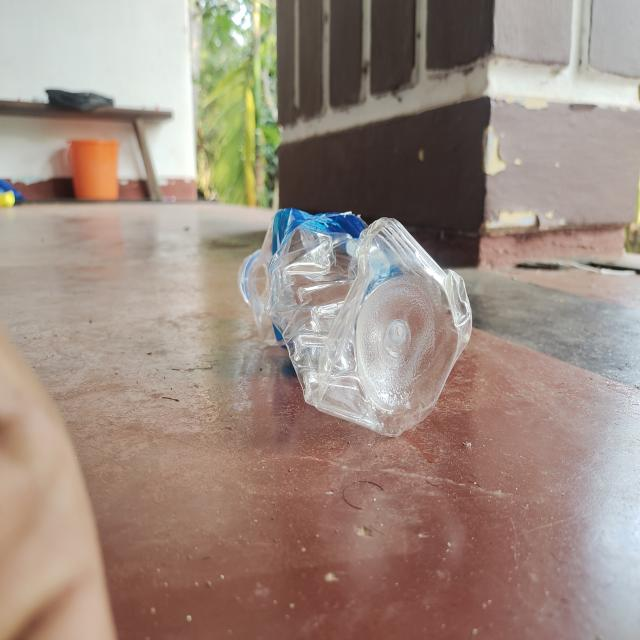plastic: (236, 204, 476, 442)
